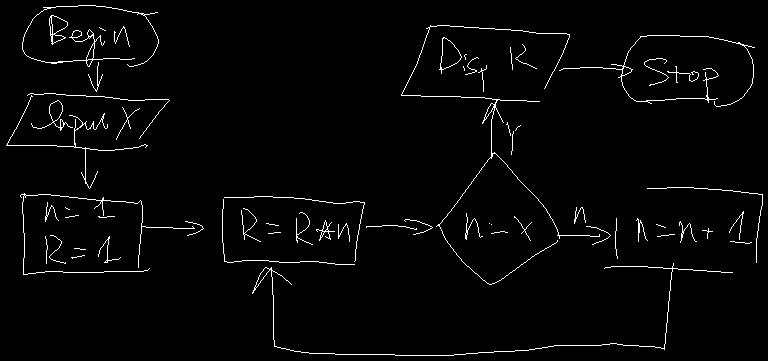arrow: (252, 263, 673, 355), (482, 99, 503, 158), (366, 219, 432, 234), (557, 226, 610, 244), (559, 64, 632, 77), (142, 221, 203, 235), (81, 147, 97, 188), (88, 62, 102, 91)
data: (401, 25, 569, 101), (6, 93, 169, 150)
decision: (436, 152, 559, 284)
process: (604, 187, 762, 272), (20, 193, 149, 274), (222, 196, 364, 264)
terminator: (621, 35, 754, 106), (22, 5, 158, 66)
text: (439, 37, 536, 91), (31, 100, 139, 147), (45, 197, 120, 263), (49, 15, 129, 66), (241, 208, 349, 244), (636, 211, 751, 243), (644, 58, 718, 102), (465, 213, 531, 240), (506, 122, 520, 154), (574, 207, 585, 223)
